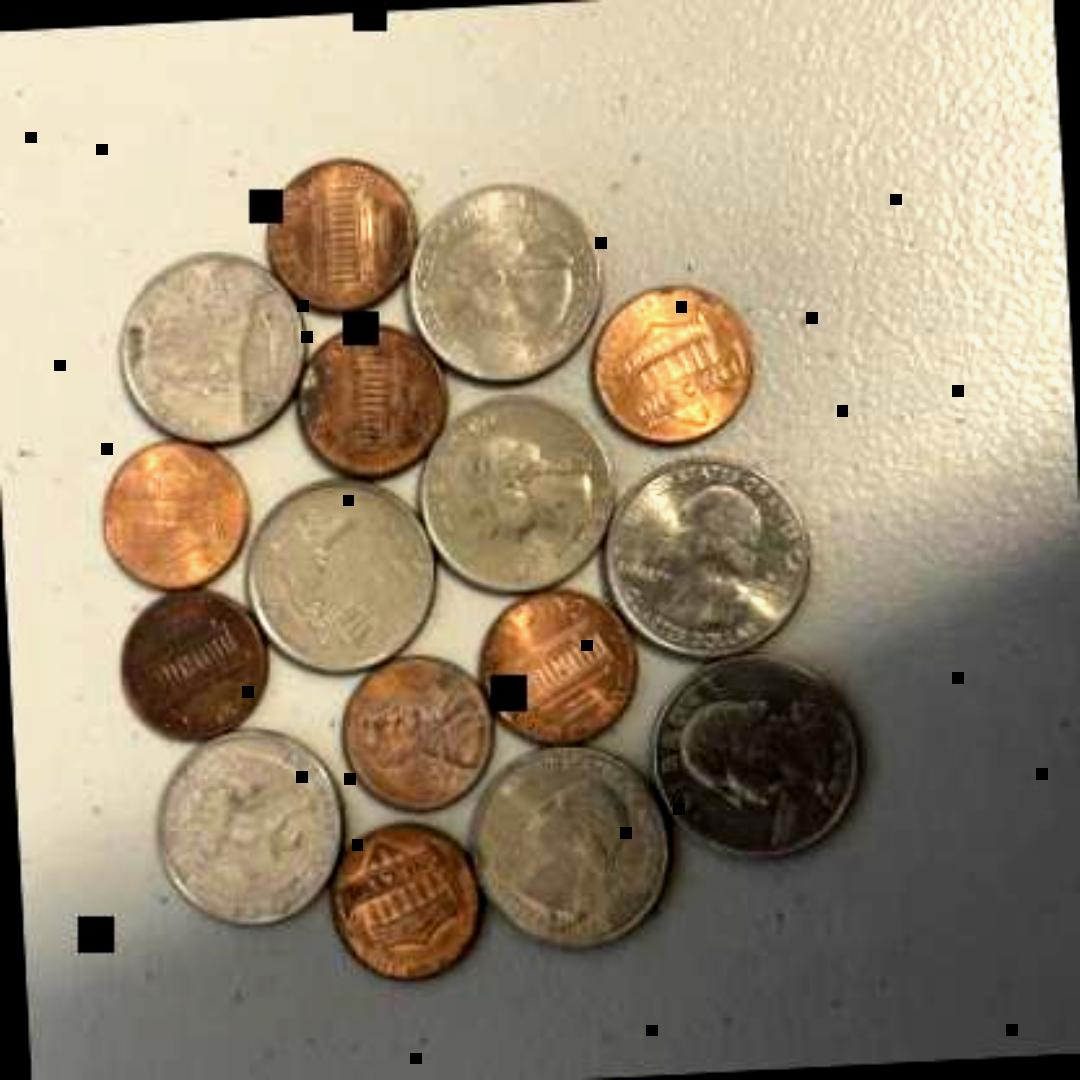Penny: (468, 572, 646, 762), (582, 276, 762, 446), (323, 816, 489, 990), (286, 318, 456, 481), (255, 151, 418, 317), (110, 582, 270, 748), (325, 648, 485, 812), (92, 433, 256, 593)
Quarter: (642, 652, 864, 864), (396, 173, 608, 391), (409, 380, 621, 598), (599, 444, 811, 662), (460, 738, 670, 958), (237, 466, 449, 681), (134, 728, 346, 936), (112, 238, 308, 450)
